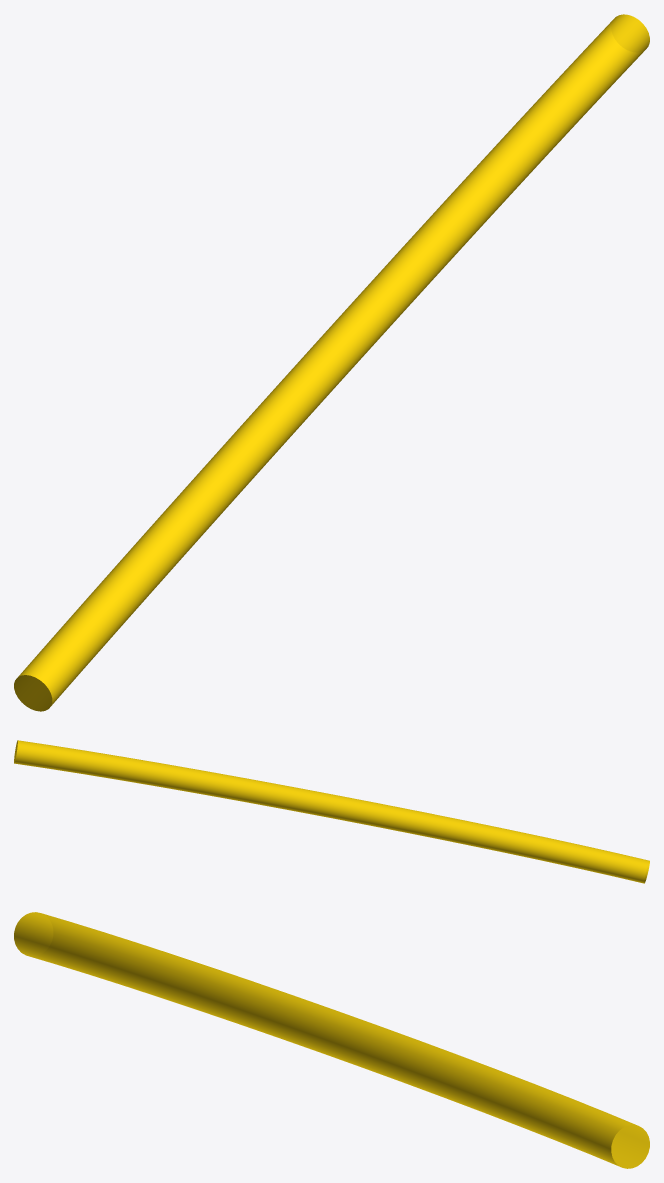
File: Event_421115418_track_8.fbx
3 views of the same model, one above another, from view 1: azimuth 30°, elevation 25°; view 2: azimuth 150°, elevation 25°; view 3: azimuth 270°, elevation 25° (orthographic). The views are drawn at different scales.
Parts seen in each view (by area): view 1: Model; view 2: Model; view 3: Model.
Boxes of the visible parts, x1=… form: Model: x1=14, y1=14, x2=649, y2=711; Model: x1=14, y1=740, x2=649, y2=883; Model: x1=14, y1=912, x2=649, y2=1168.
Size of the model in its own units: 0.9458 by 0.2619 by 0.5653.
